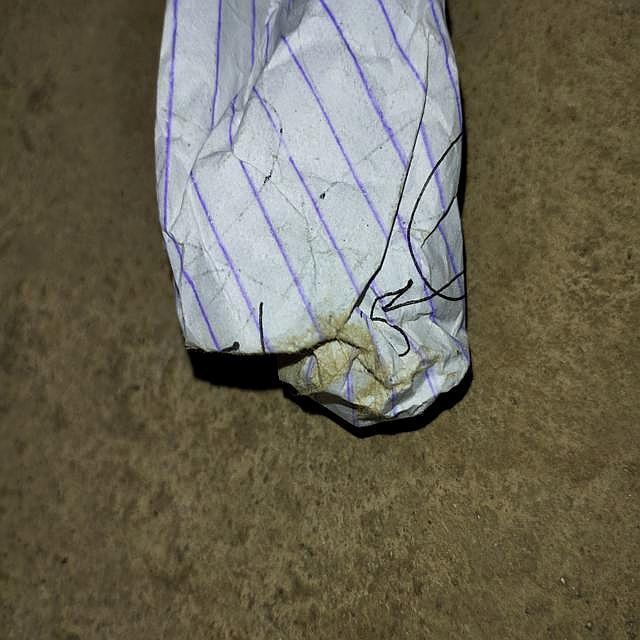Biodegradable: (159, 1, 471, 433)
